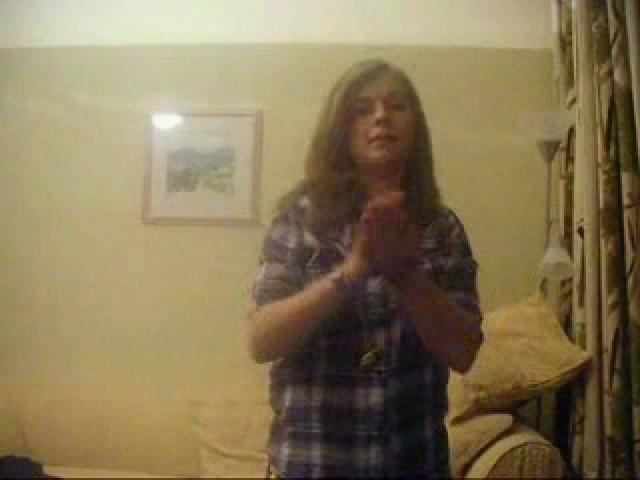F: (252, 58, 484, 478)
